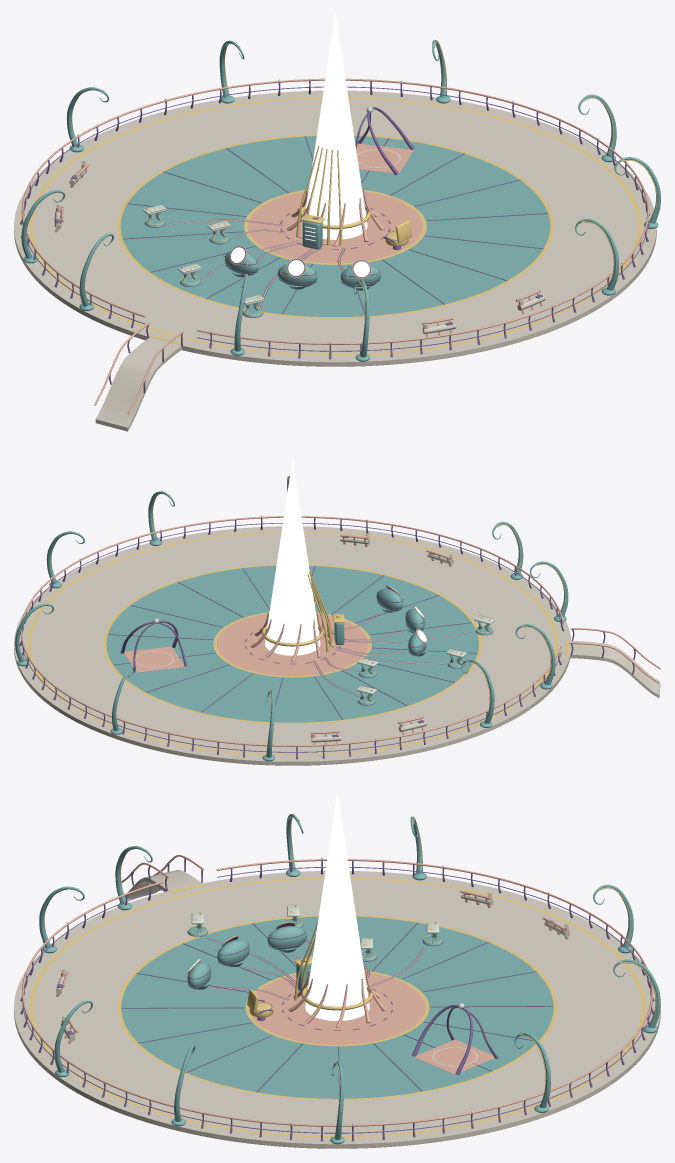
File: play_bridge.glb
3 renders of one model, top to bottom at view 1: azimuth 30°, elevation 25°; view 2: azimuth 150°, elevation 25°; view 3: azimuth 270°, elevation 25°, orthographic. The views are drawn at different scales.
Parts seen in each view (by area): view 1: WALK_bridge_deck, deck_floor_fill, spire_needle, ramp_down, lift_arrival_pad, archive_shrine_ribs, console_navigation_1, console_navigation_2, WALK_bridge_ramp_head, console_navigation_0, lift_arrival_arch, archive_terminal (+3 smaller); view 2: WALK_bridge_deck, deck_floor_fill, spire_needle, ramp_down, lift_arrival_pad, lift_arrival_arch, archive_shrine_ribs, console_navigation_2, deck_body_05, WALK_bridge_ramp_head, rim_frond_5, rim_frond_4 (+1 smaller); view 3: WALK_bridge_deck, deck_floor_fill, spire_needle, lift_arrival_pad, ramp_down, console_navigation_0, lift_arrival_arch, console_navigation_1, deck_body_00, deck_body_15, rim_frond_2, rim_frond_1 (+9 smaller).
Part boxes in pixels (<box>): WALK_bridge_deck: <box>33,98,637,354</box>; deck_floor_fill: <box>14,90,656,363</box>; spire_needle: <box>286,14,384,246</box>; ramp_down: <box>94,322,184,431</box>; lift_arrival_pad: <box>356,143,413,173</box>; archive_shrine_ribs: <box>296,146,342,245</box>; console_navigation_1: <box>277,259,317,289</box>; console_navigation_2: <box>340,260,380,290</box>; WALK_bridge_ramp_head: <box>128,337,181,363</box>; console_navigation_0: <box>224,246,258,277</box>; lift_arrival_arch: <box>355,106,414,175</box>; archive_terminal: <box>300,214,325,249</box>; WALK_bridge_deck: <box>30,533,570,754</box>; deck_floor_fill: <box>14,526,603,761</box>; spire_needle: <box>250,460,334,661</box>; ramp_down: <box>565,627,660,697</box>; lift_arrival_pad: <box>124,646,184,672</box>; lift_arrival_arch: <box>120,618,187,672</box>; archive_shrine_ribs: <box>307,569,332,651</box>; console_navigation_2: <box>376,586,402,612</box>; deck_body_05: <box>256,758,364,765</box>; WALK_bridge_ramp_head: <box>569,641,608,657</box>; rim_frond_5: <box>515,624,555,689</box>; rim_frond_4: <box>461,659,494,727</box>; WALK_bridge_deck: <box>33,879,641,1135</box>; deck_floor_fill: <box>14,871,660,1144</box>; spire_needle: <box>288,794,386,1028</box>; lift_arrival_pad: <box>414,1039,494,1074</box>; ramp_down: <box>121,855,204,899</box>; console_navigation_0: <box>267,922,306,952</box>; lift_arrival_arch: <box>411,1003,497,1075</box>; console_navigation_1: <box>217,936,249,966</box>; deck_body_00: <box>337,1134,461,1148</box>; deck_body_15: <box>213,1134,337,1148</box>; rim_frond_2: <box>613,959,660,1033</box>; rim_frond_1: <box>514,1032,550,1112</box>.
Bounding box in the file's own units: 48.54 × 19.7 × 44.
